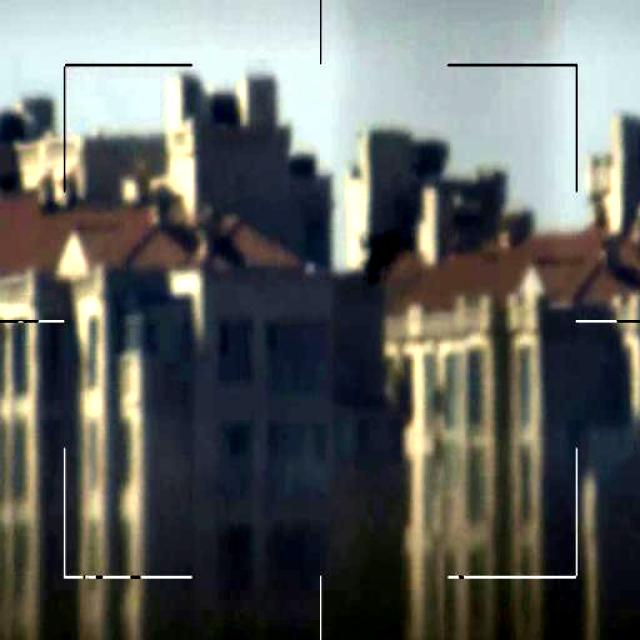bird: (352, 214, 401, 296)
